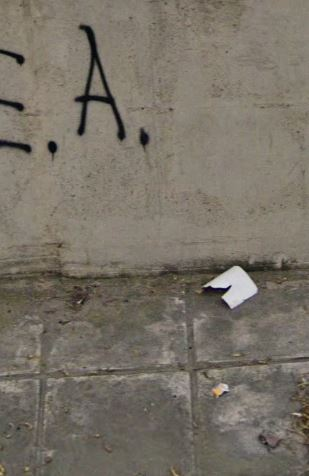trash: (196, 251, 265, 313), (208, 378, 234, 402)
